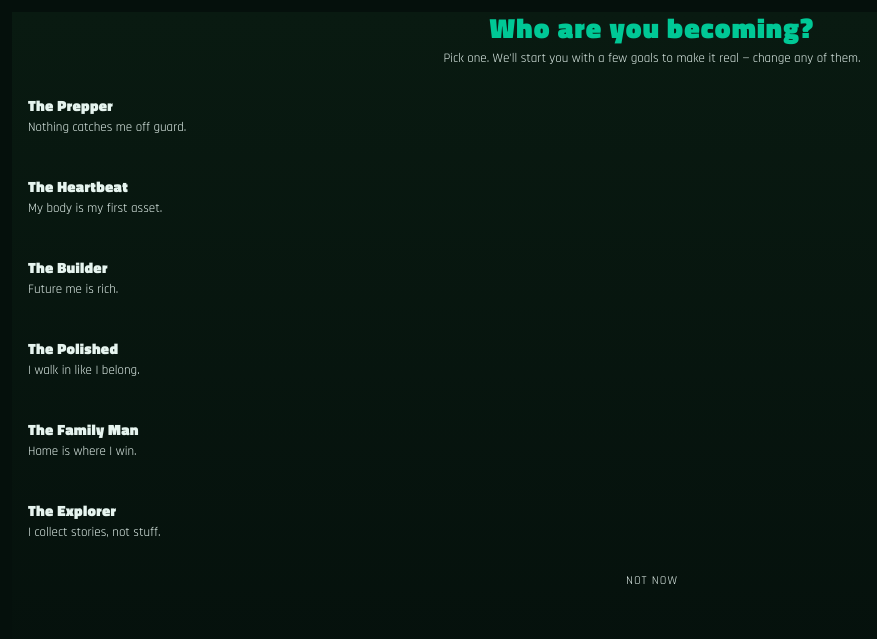
it: ArchetypePicker › derives the emergency-fund target from real weekly spend
Click the text "The Prepper" at (71, 106), box [28, 94, 113, 117]
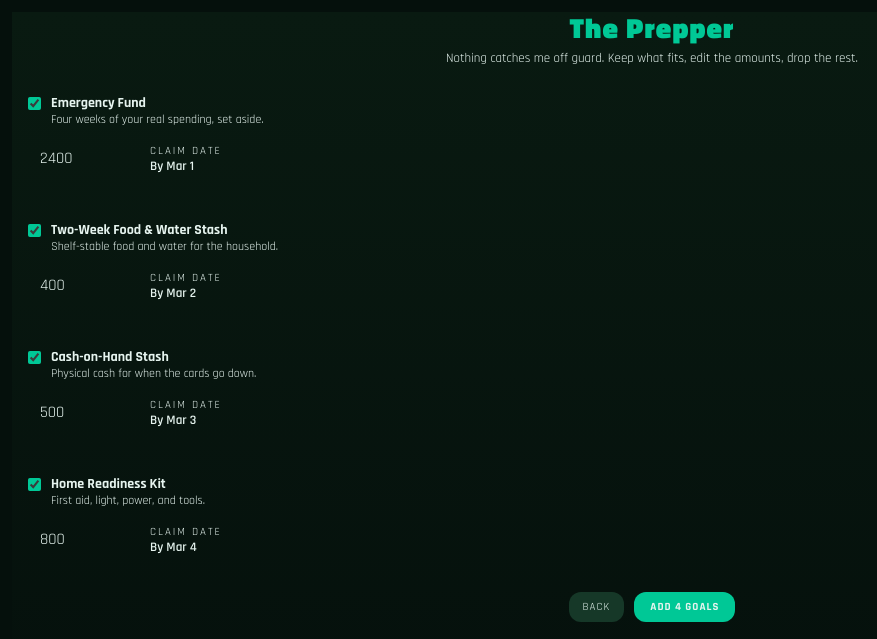
Expected: the field named "Target for Emergency Fund" holds "2400", [28, 137, 138, 181]
